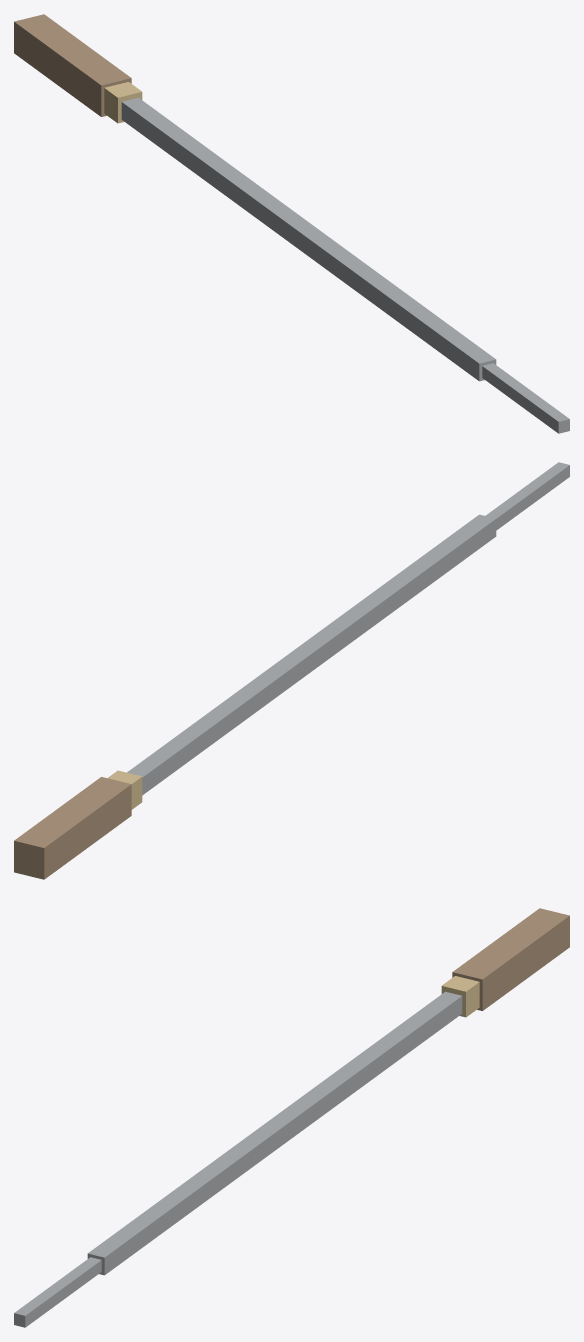
File: poker.gltf
The picture shows the model from 3 angles, top to bottom: view 1: azimuth 30°, elevation 25°; view 2: azimuth 150°, elevation 25°; view 3: azimuth 330°, elevation 25°; orthographic projection.
Parts seen in each view (by area): view 1: Shaft, Grip, Tip, Collar; view 2: Shaft, Grip, Tip, Collar; view 3: Shaft, Grip, Tip, Collar.
Boxes of the visible parts, <box> form: Shaft: <box>121,97,496,381</box>; Grip: <box>14,14,131,116</box>; Tip: <box>482,363,569,433</box>; Collar: <box>104,82,142,123</box>; Shaft: <box>127,514,496,795</box>; Grip: <box>14,777,131,879</box>; Tip: <box>485,462,569,530</box>; Collar: <box>107,770,142,809</box>; Shaft: <box>87,991,462,1275</box>; Grip: <box>452,908,569,1010</box>; Tip: <box>14,1257,101,1327</box>; Collar: <box>441,976,479,1017</box>.
Size of the model in its own units: 0.002 by 0.002 by 0.0612.
